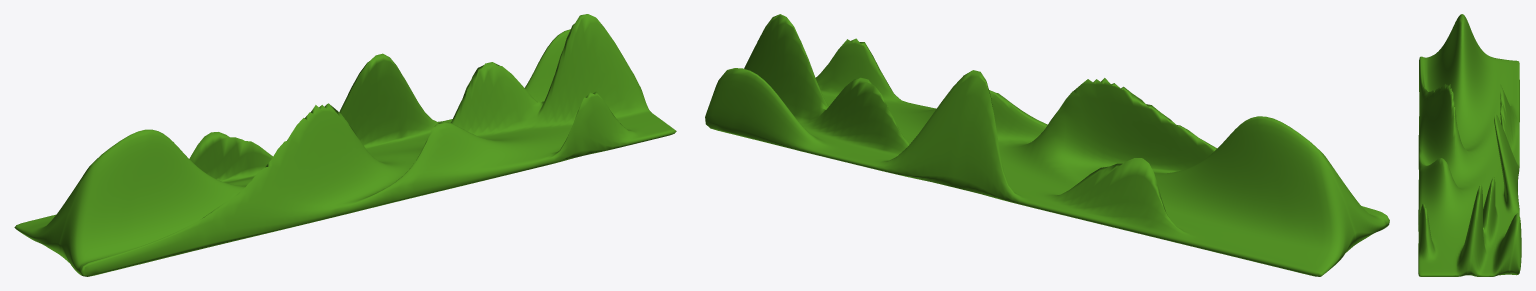
File: hills.glb
3 renders of one model, left to right at view 1: azimuth 30°, elevation 25°; view 2: azimuth 150°, elevation 25°; view 3: azimuth 270°, elevation 25°, orthographic. The views are drawn at different scales.
Visible parts, largest first — view 1: Cube; view 2: Cube; view 3: Cube.
Part boxes in pixels (bbox=[...]): Cube: bbox=[14, 14, 676, 276]; Cube: bbox=[705, 14, 1389, 276]; Cube: bbox=[1418, 14, 1521, 276].
Bounding box in the file's own units: 299 × 50.63 × 60.91.
